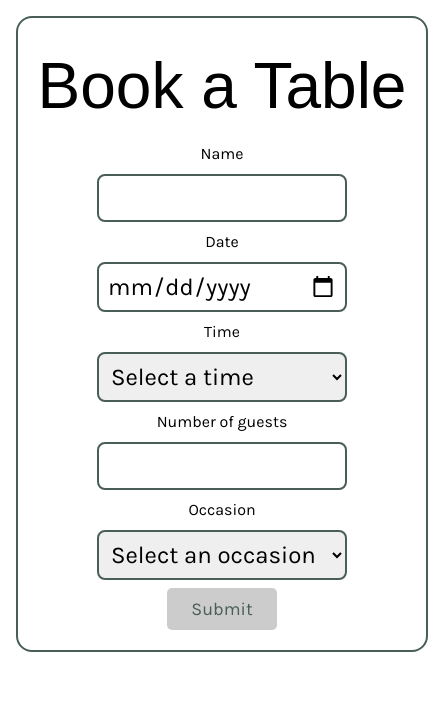
Test: BookingForm › if error is shown when invalid data is added
This screenshot has width=445, height=701.
Type "a" into the field labelled "Name" at (222, 198), box top-left (97, 174), bottom-right (347, 222)
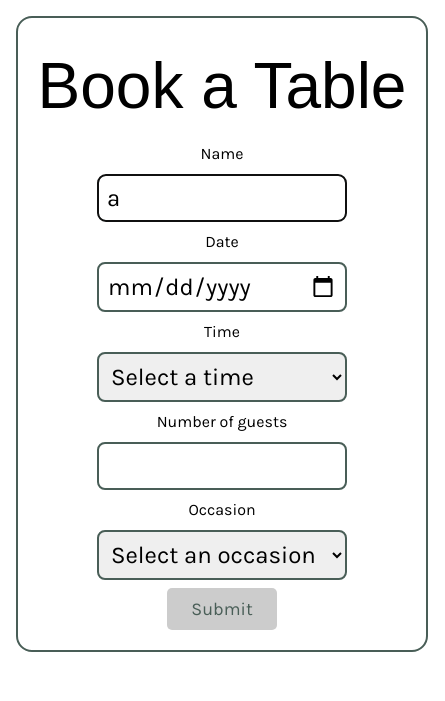
Type "2" into the number field labelled "Number of guests" at (222, 466), box top-left (97, 442), bottom-right (347, 490)
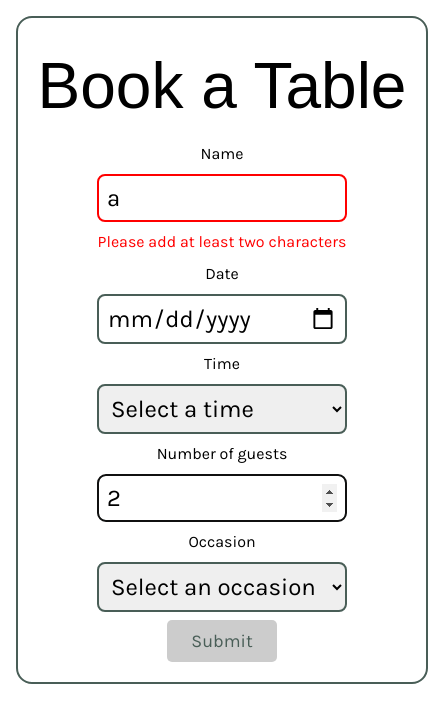
Expected: the text "Please add at least two characters" is shown, top-left (98, 230), bottom-right (346, 254)
